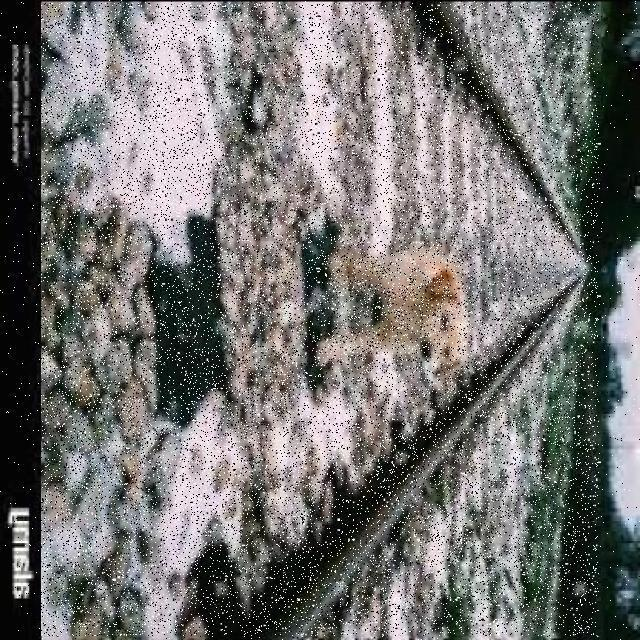danger: (318, 220, 470, 392)
rail: (41, 3, 599, 636)
